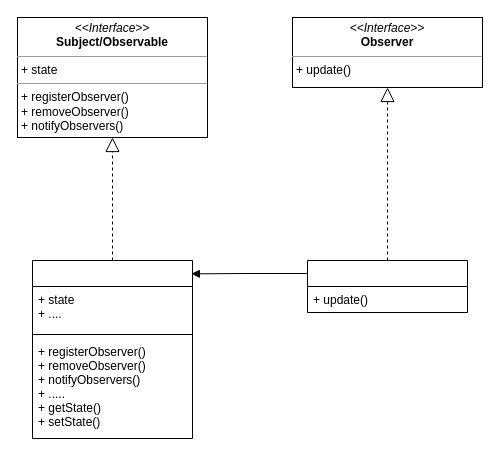
Image size: 500x459. Some labels were removed from this diagram. The shapes that lost their labels are listed below. From the top down, each one's box as (x1, y1, x2, y2) in pixels, then its label:
(306, 260, 468, 312): ConcreteObserver
(32, 260, 192, 438): ConcreteSubject
